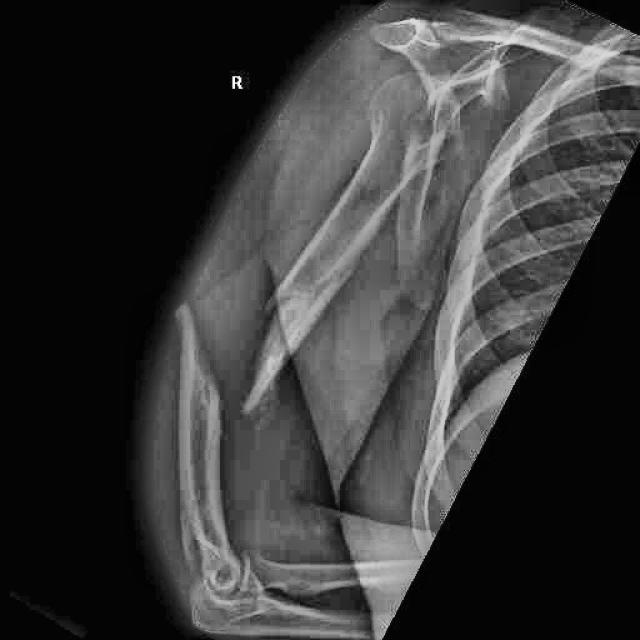humerus: (145, 190, 388, 515)
